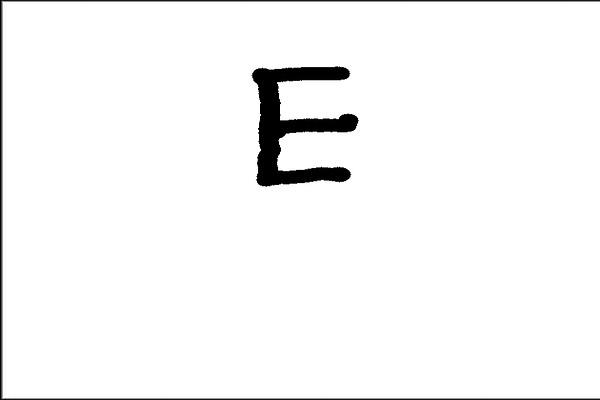E: (245, 60, 366, 189)
